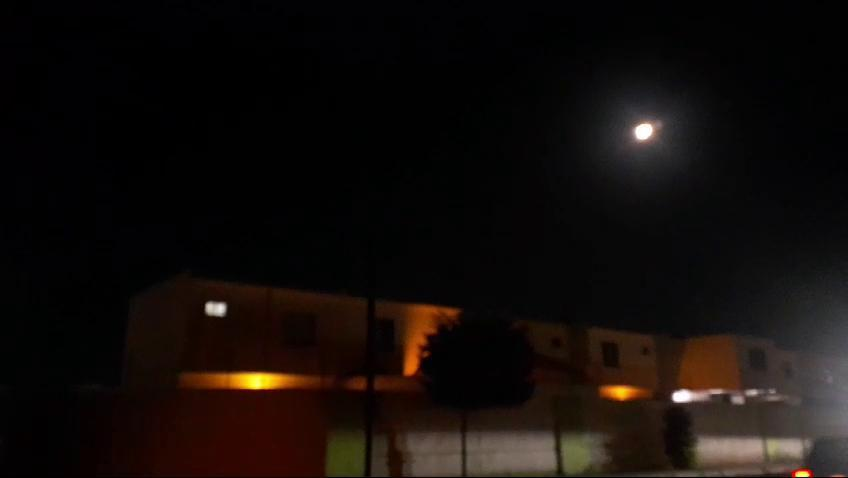moon: (634, 120, 660, 145)
